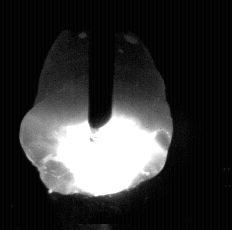arame: (89, 0, 114, 129)
poca: (18, 0, 173, 230)
